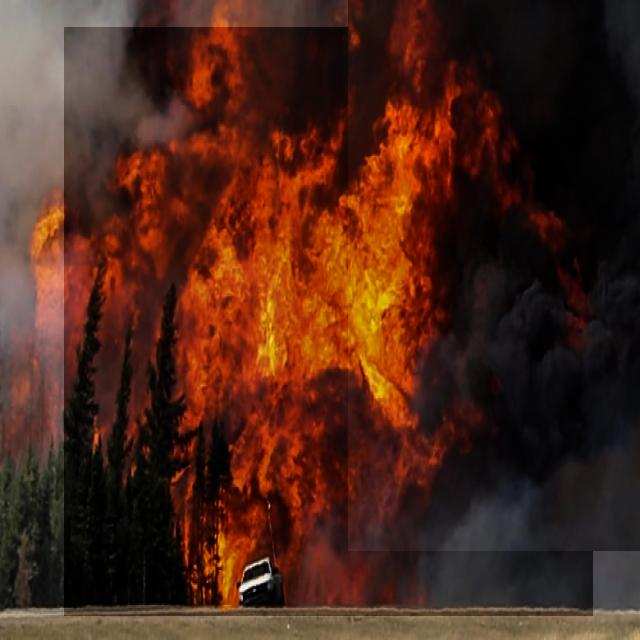Fire: (64, 27, 593, 616)
Smoke: (348, 0, 640, 551)
